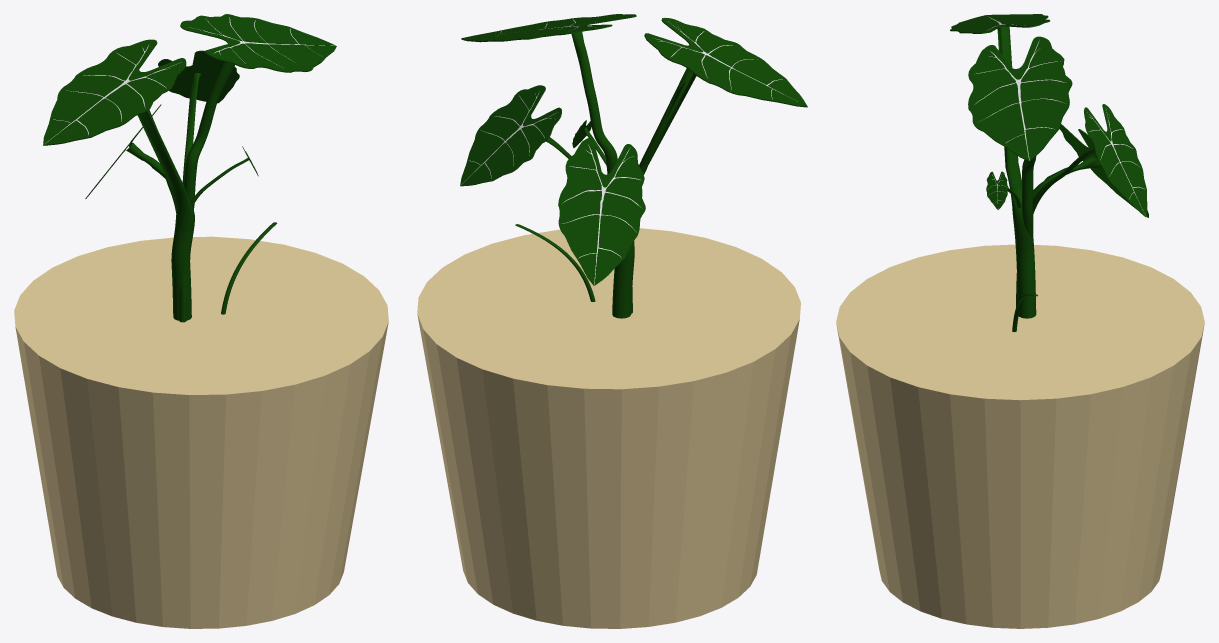
The model's file is Alokasia9.glb.
3 views of the same model, side by side, from view 1: azimuth 30°, elevation 25°; view 2: azimuth 150°, elevation 25°; view 3: azimuth 270°, elevation 25° (orthographic). The views are drawn at different scales.
Parts seen in each view (by area): view 1: 흙임, 잎.003; view 2: 흙임, 잎.003; view 3: 흙임, 잎.003.
Part boxes in pixels (x1,y1,x2,y2): 흙임: (14, 236, 388, 628); 잎.003: (43, 14, 336, 322); 흙임: (417, 228, 800, 628); 잎.003: (460, 14, 807, 318); 흙임: (836, 244, 1204, 628); 잎.003: (950, 14, 1148, 318).
Bounding box in the file's own units: 0.3334 × 0.5057 × 0.3201.
